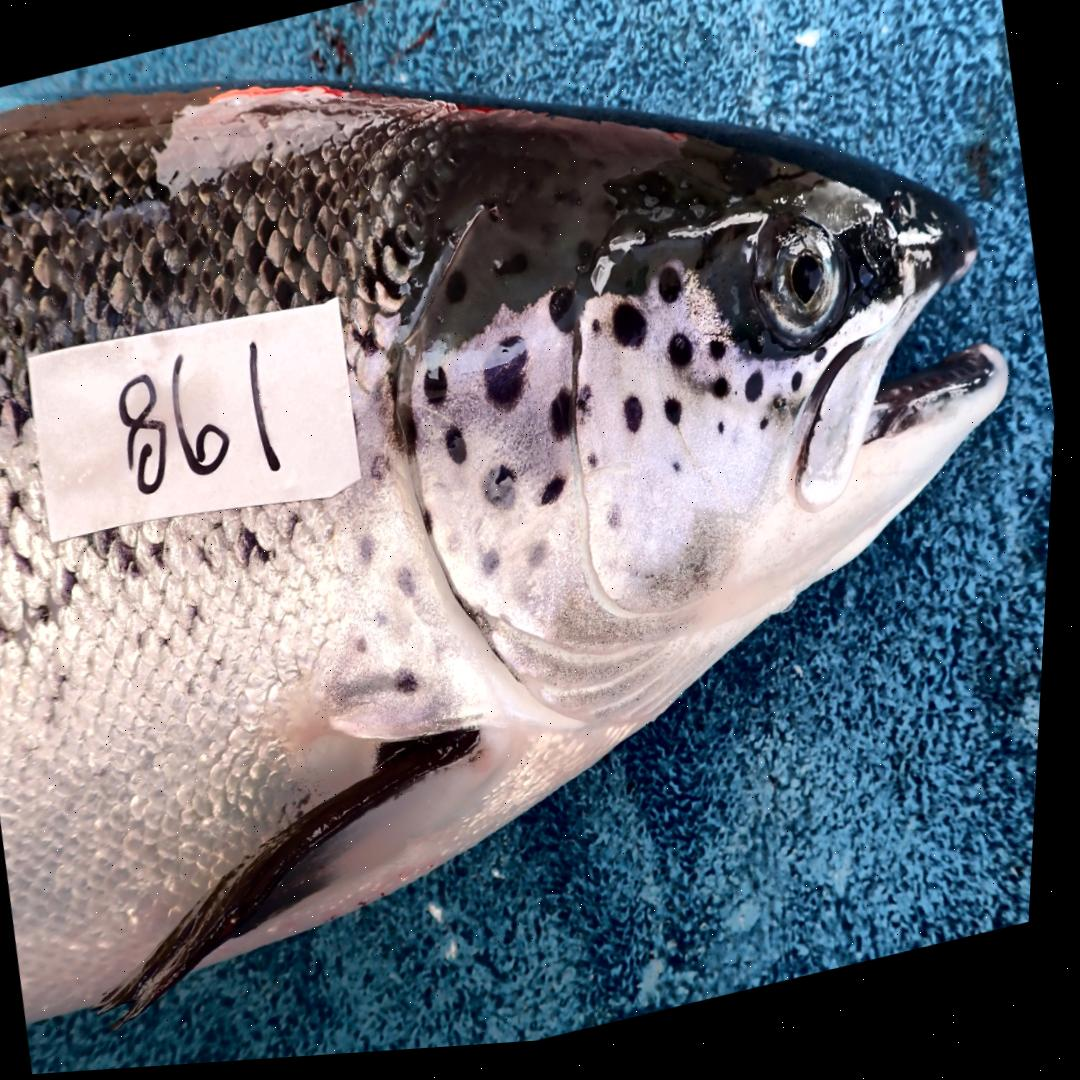spot: (486, 340, 529, 419), (615, 311, 650, 356), (551, 295, 584, 340), (488, 470, 520, 515), (553, 397, 575, 448), (540, 479, 569, 513), (426, 373, 451, 411), (671, 341, 697, 376), (661, 275, 684, 312), (449, 433, 471, 471), (628, 403, 647, 441), (580, 391, 599, 428), (407, 420, 427, 455), (747, 381, 767, 413), (532, 545, 552, 574), (667, 406, 686, 434), (488, 554, 503, 582), (715, 386, 733, 409), (711, 348, 729, 370), (612, 515, 626, 537), (427, 512, 437, 538), (794, 383, 806, 403), (775, 405, 790, 419), (594, 325, 605, 343), (818, 357, 830, 373), (591, 459, 602, 476), (676, 469, 686, 481), (763, 427, 772, 440), (721, 430, 728, 443)
